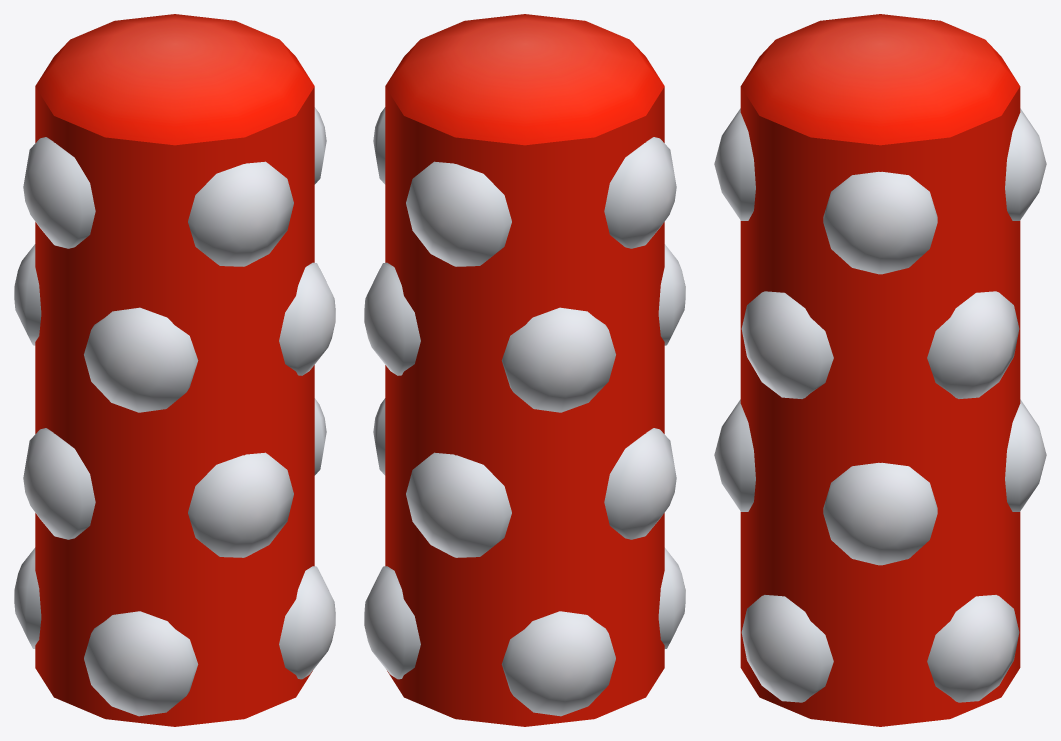
File: obs_03.fbx
3 views of the same model, side by side, from view 1: azimuth 30°, elevation 25°; view 2: azimuth 150°, elevation 25°; view 3: azimuth 270°, elevation 25° (orthographic).
Visible parts, largest first — view 1: obs_3; view 2: obs_3; view 3: obs_3.
Boxes of the visible parts, <box> form: obs_3: <box>14,14,335,726</box>; obs_3: <box>364,14,685,726</box>; obs_3: <box>714,14,1046,726</box>.
Size of the model in its own units: 81.56 by 169 by 81.56.
